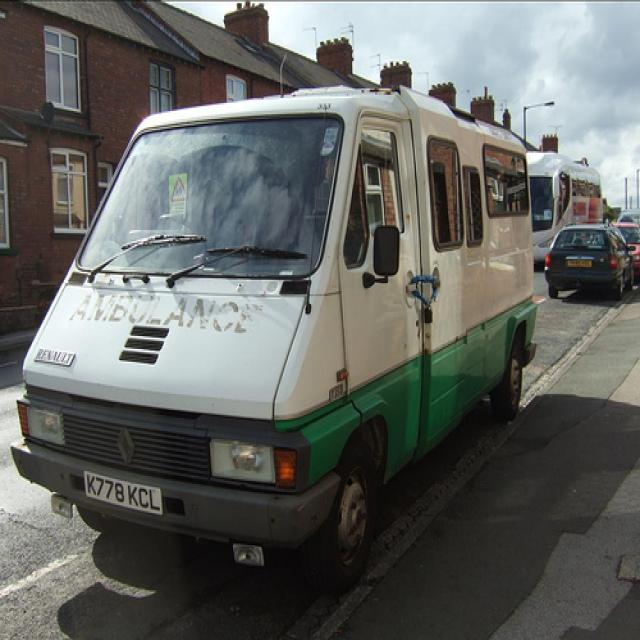emergency-vehicle: (10, 84, 532, 584)
